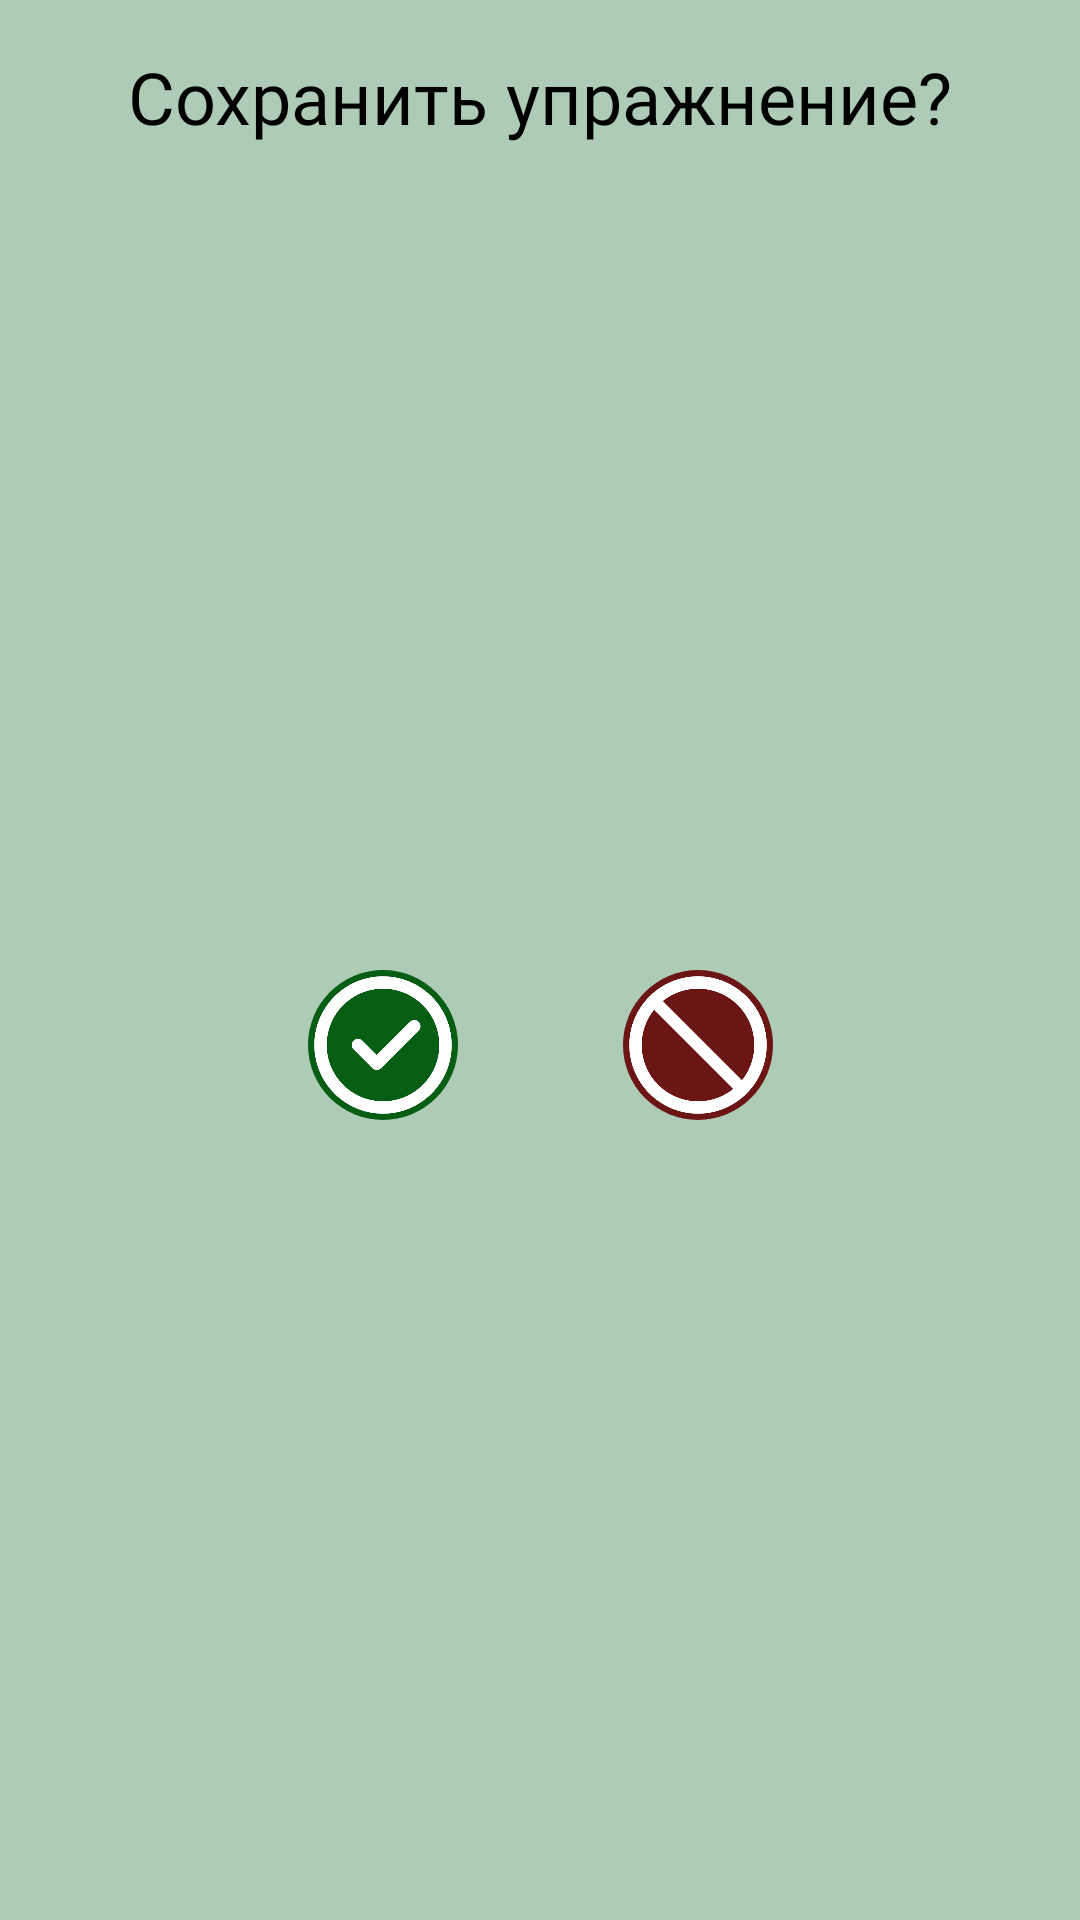

Screen size 1080x1920. Icon name, then its center in pixels as point (x, y):
yesb: point (383, 1045)
